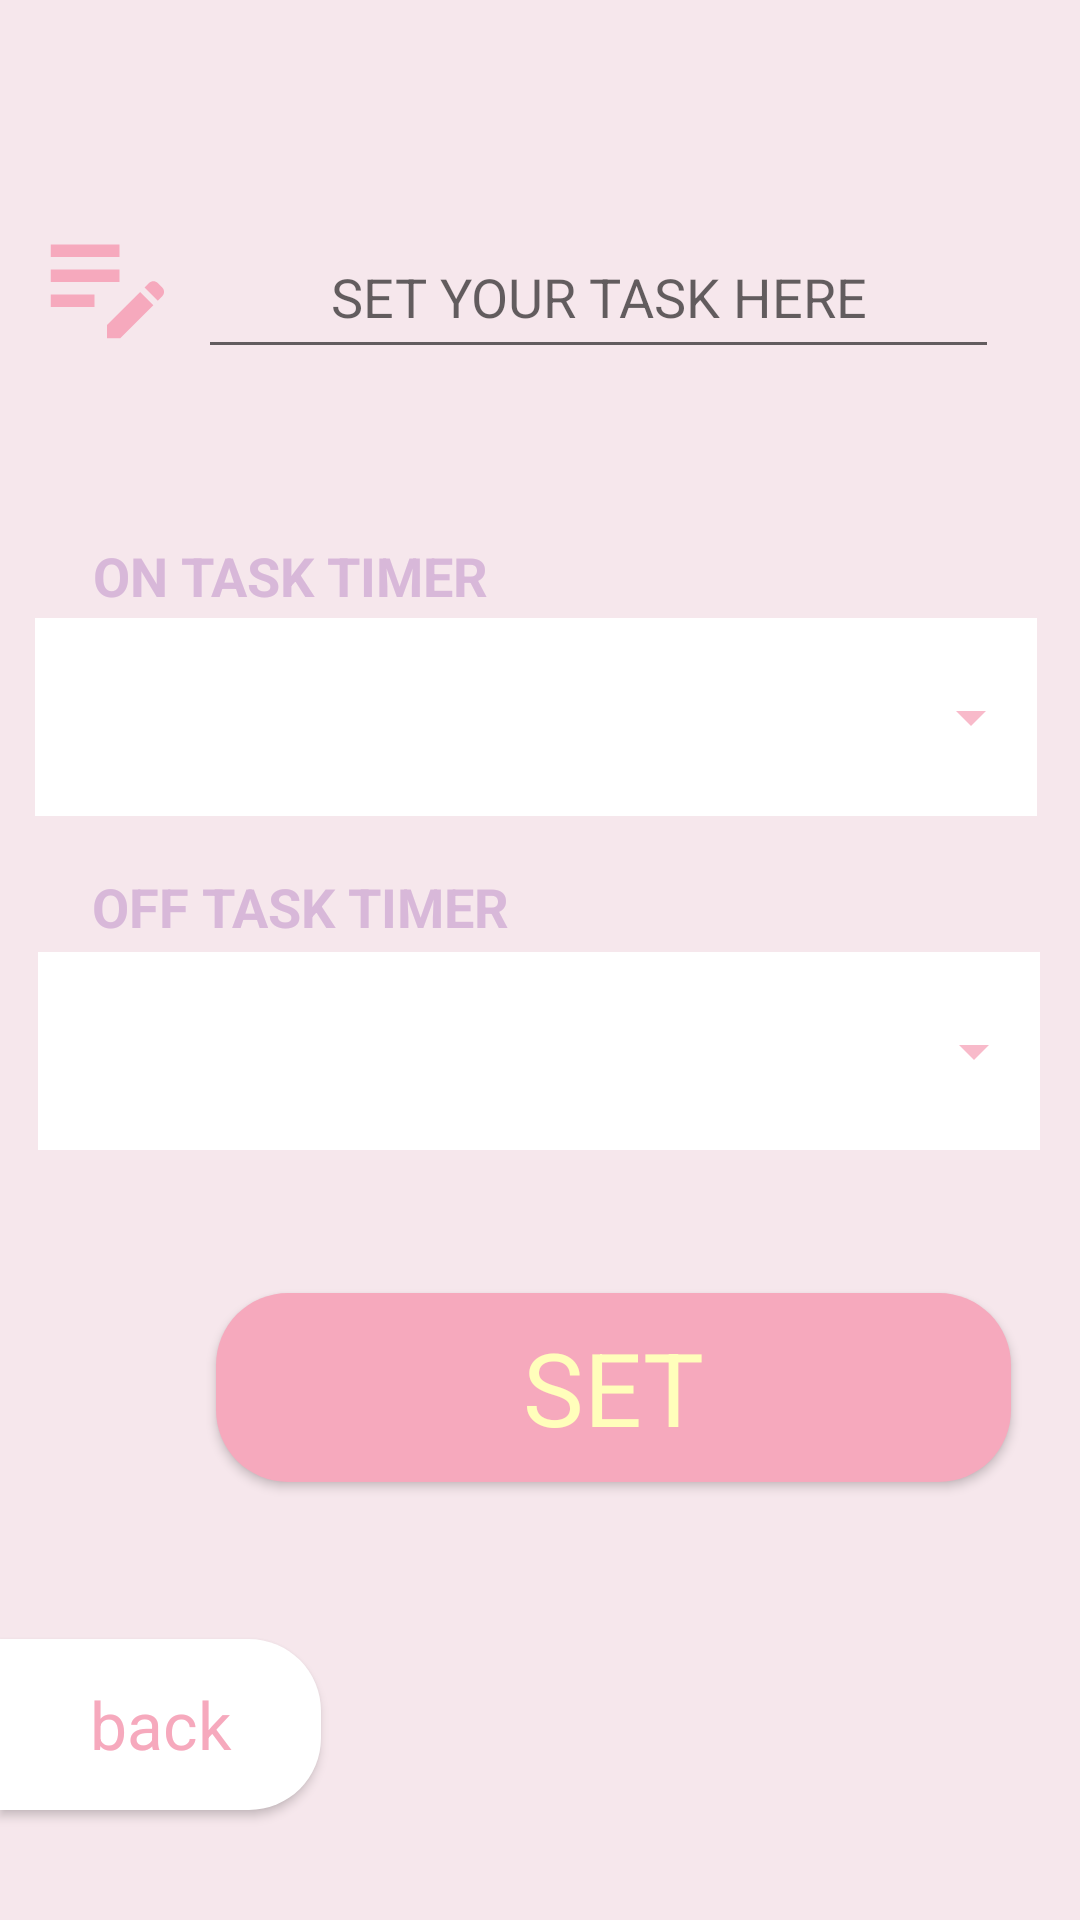

Where to tap for icons on this 1080px×1920px app screen, as (x,y):
note: (107,291)
